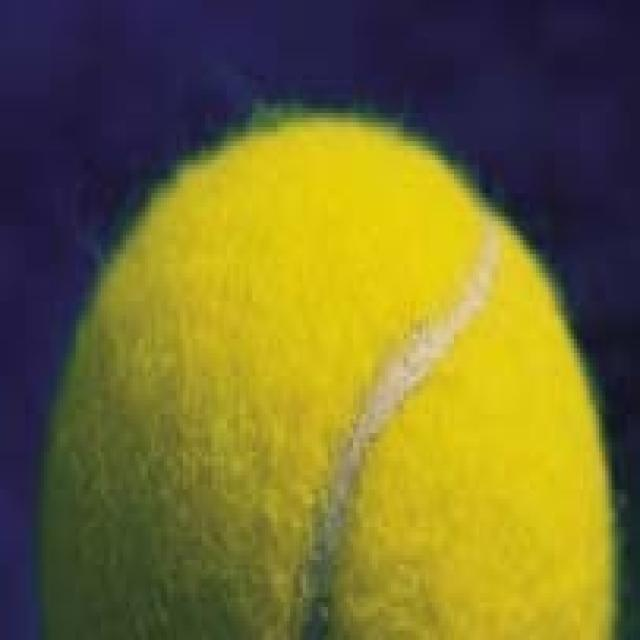Tennis Ball: (38, 108, 615, 640)
